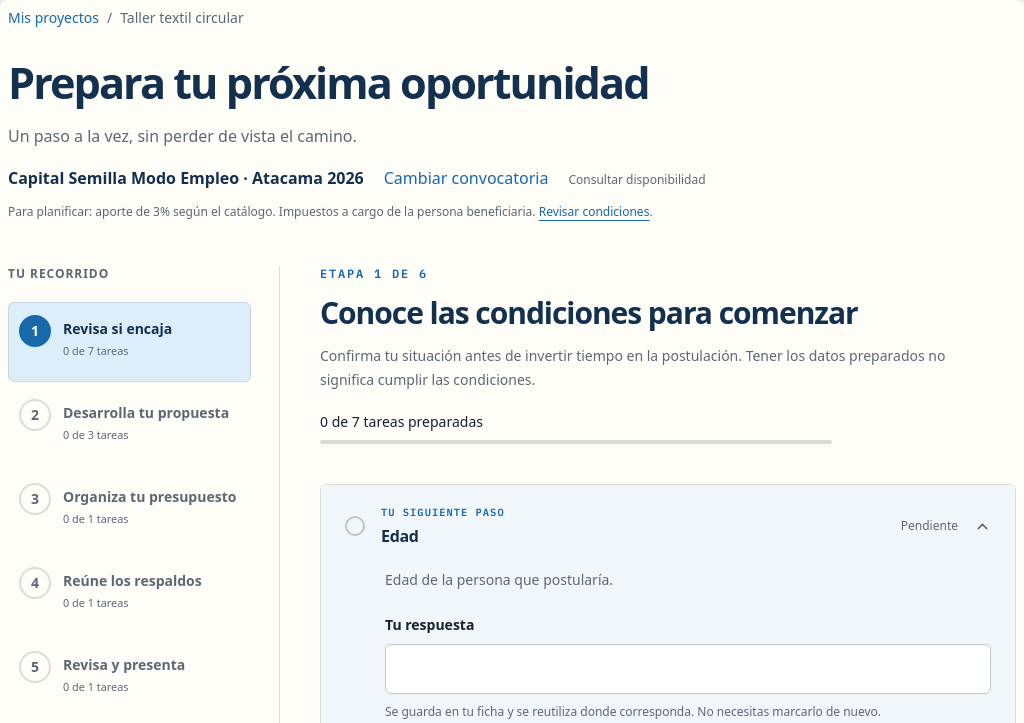
it: PreparationJourney › keeps navigation usable when browser storage is unavailable
Click the button "3 Organiza tu presupuesto 0 de 1 tareas": (130, 510) top-left (8, 470), bottom-right (251, 550)
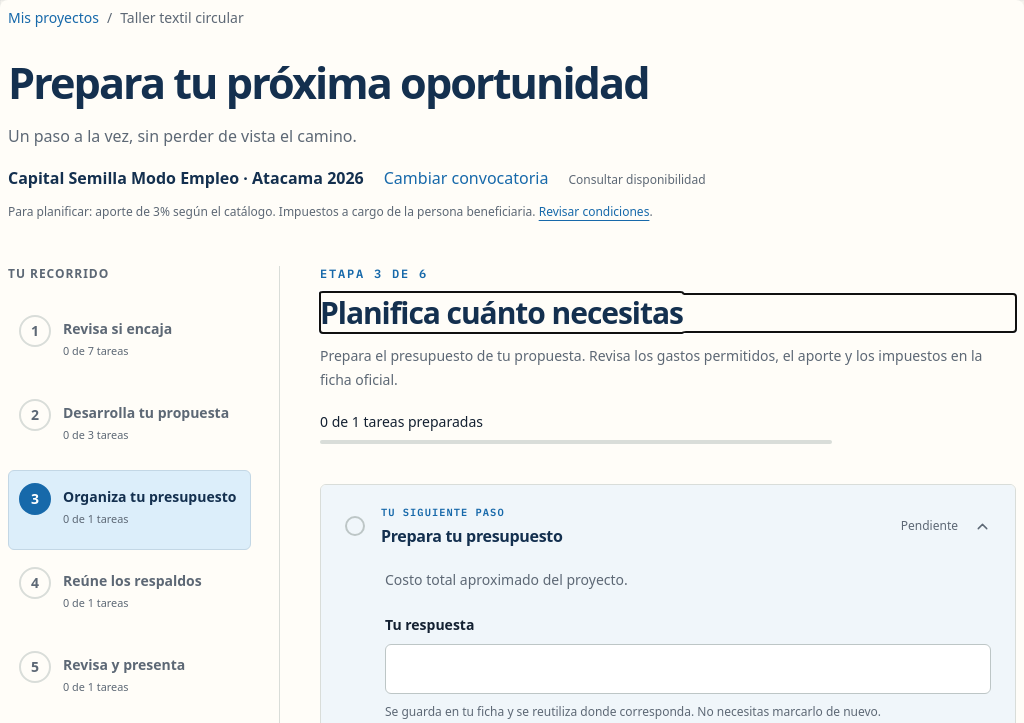
Expected: the heading "Planifica cuánto necesitas" is shown, top-left (320, 292), bottom-right (683, 333)
